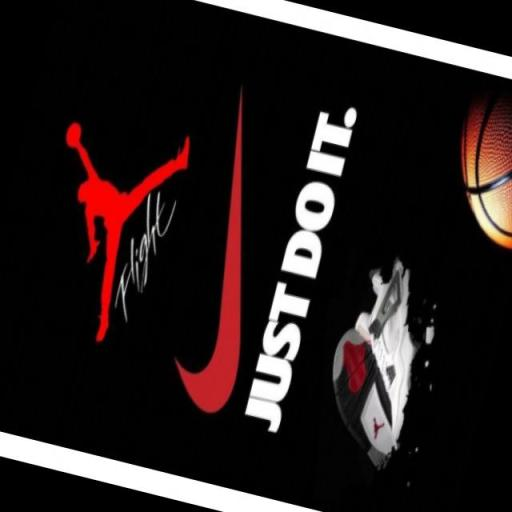Nike: (152, 68, 314, 432)
